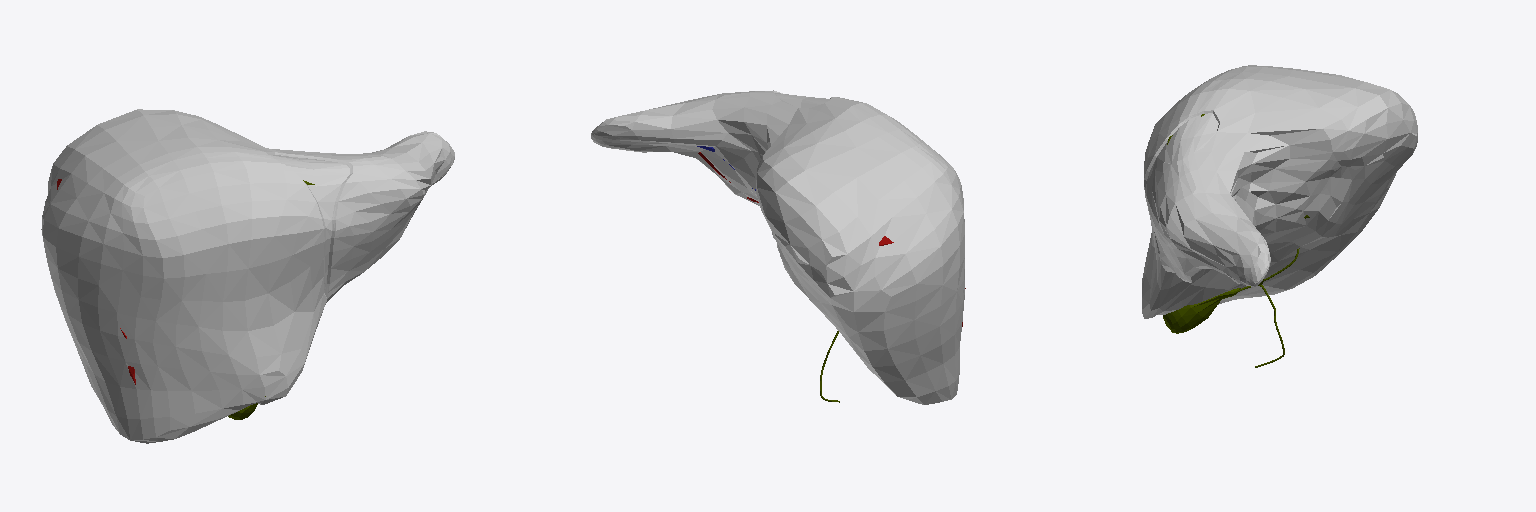
Rendered from figado.obj.
The picture shows the model from 3 angles: view 1: azimuth 30°, elevation 25°; view 2: azimuth 150°, elevation 25°; view 3: azimuth 270°, elevation 25°; orthographic projection.
Visible parts, largest first — view 1: t0071 org-_transp; view 2: t0071 org-_transp; view 3: t0071 org-_transp, t0086 org._Mat.3.
Boxes of the visible parts, box(x1,y1,x2,y2) form: t0071 org-_transp: box(41, 109, 454, 443); t0071 org-_transp: box(591, 90, 964, 404); t0071 org-_transp: box(1142, 65, 1417, 318); t0086 org._Mat.3: box(1163, 288, 1240, 333).
Bounding box in the file's own units: 20.65 × 14.8 × 13.19.